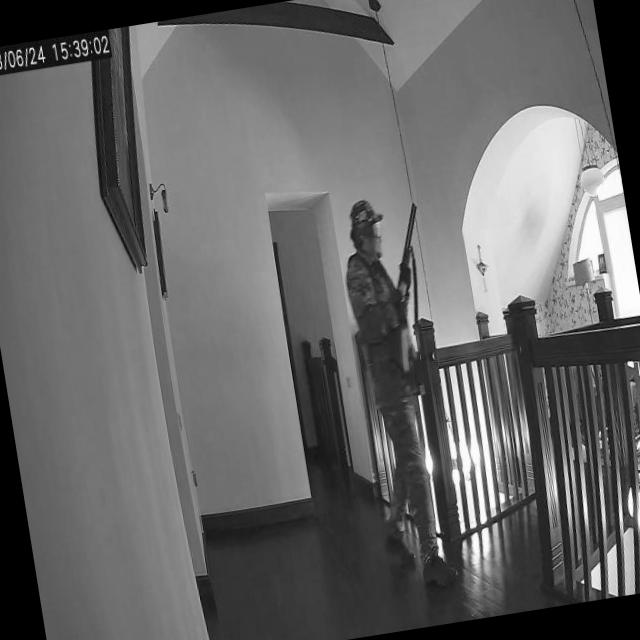gun: (372, 196, 446, 381)
person with a gun: (328, 186, 479, 594)
